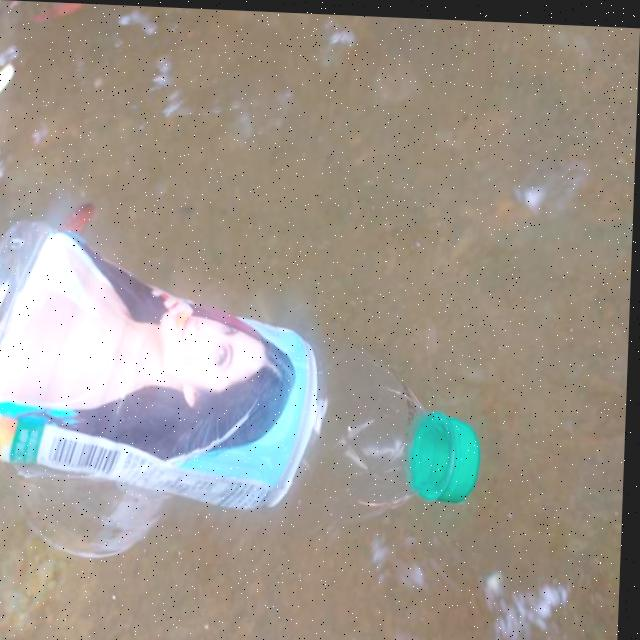waterbottle: (0, 209, 500, 587)
